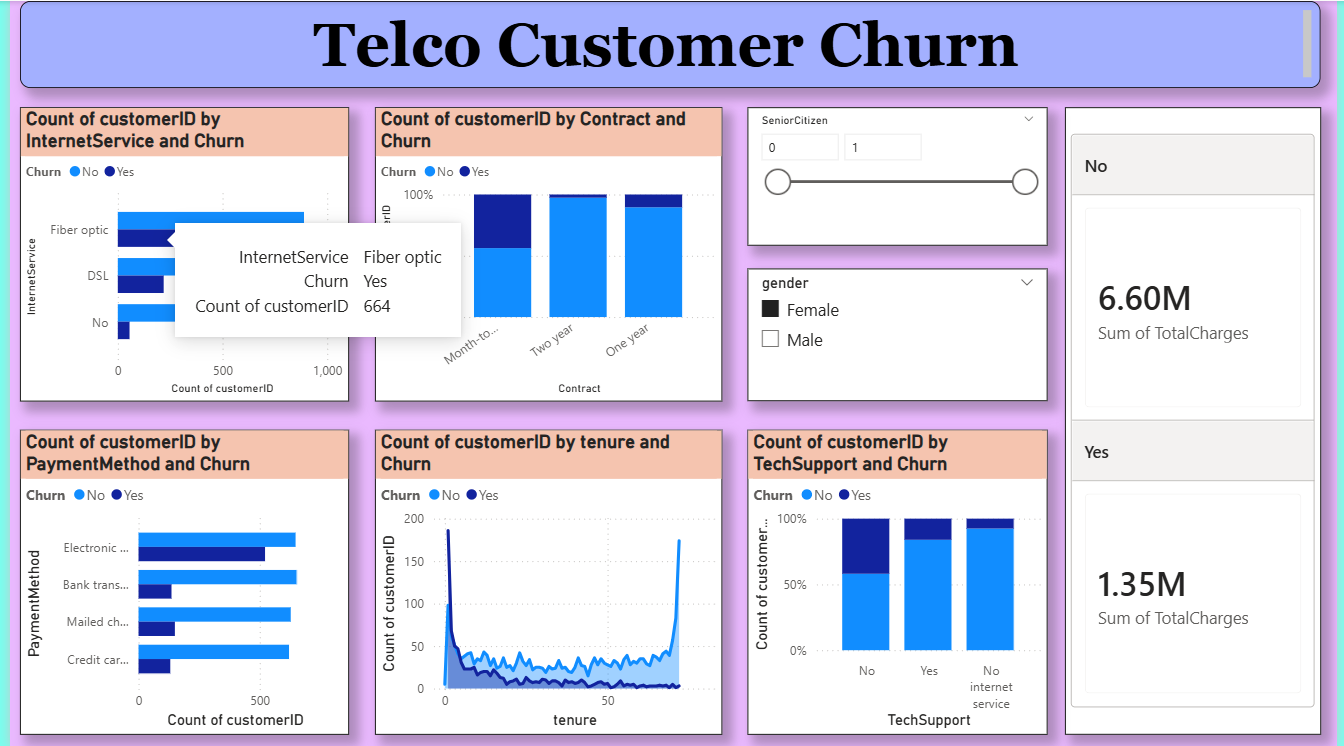

What the dashboard file says about the page in this screenshot:
{"tool":"powerbi","page":{"name":"Page 1","canvas":[1280,720],"ordinal":0},"visuals":[{"type":"textbox","box":[9.6,0,1255.6,83.7],"z":0},{"type":"clusteredBarChart","fields":{"Category":["telco_churn customers.InternetService"],"Y":["CountNonNull(telco_churn customers.customerID)"],"Series":["telco_churn customers.Churn"]},"box":[9.8,102.7,317.9,283.7],"z":1},{"type":"cardVisual","fields":{"Data":["Sum(telco_churn customers.TotalCharges)"],"Rows":["telco_churn customers.Churn"]},"box":[1018.6,102.7,247,605.3],"z":2},{"type":"hundredPercentStackedColumnChart","fields":{"Category":["telco_churn customers.Contract"],"Y":["CountNonNull(telco_churn customers.customerID)"],"Series":["telco_churn customers.Churn"]},"box":[352.2,102.7,335.1,283.7],"z":3},{"type":"clusteredBarChart","fields":{"Category":["telco_churn customers.PaymentMethod"],"Y":["CountNonNull(telco_churn customers.customerID)"],"Series":["telco_churn customers.Churn"]},"box":[9.8,413.3,317.9,294.7],"z":4},{"type":"areaChart","fields":{"Category":["telco_churn customers.tenure"],"Y":["CountNonNull(telco_churn customers.customerID)"],"Series":["telco_churn customers.Churn"]},"box":[352.2,413.3,335.1,294.7],"z":5},{"type":"hundredPercentStackedColumnChart","fields":{"Category":["telco_churn customers.TechSupport"],"Y":["CountNonNull(telco_churn customers.customerID)"],"Series":["telco_churn customers.Churn"]},"box":[711.7,413.3,289.8,294.7],"z":6},{"type":"slicer","fields":{"Values":["telco_churn customers.gender"]},"box":[711.7,258,289.8,128.4],"z":7},{"type":"slicer","fields":{"Values":["telco_churn customers.SeniorCitizen"]},"box":[711.7,102.7,289.8,133.3],"z":8}]}

Visuals, with their boxes in screenshot pixels (x1, y1, x2, y2), scaled from the page's 1280x720 canvas onto the 1344x746 screenshot:
textbox: <box>10,0,1328,87</box>
clusteredBarChart - telco_churn customers.InternetService x CountNonNull(telco_churn customers.customerID): <box>10,106,344,400</box>
cardVisual - Sum(telco_churn customers.TotalCharges) x telco_churn customers.Churn: <box>1070,106,1329,734</box>
hundredPercentStackedColumnChart - telco_churn customers.Contract x CountNonNull(telco_churn customers.customerID): <box>370,106,722,400</box>
clusteredBarChart - telco_churn customers.PaymentMethod x CountNonNull(telco_churn customers.customerID): <box>10,428,344,734</box>
areaChart - telco_churn customers.tenure x CountNonNull(telco_churn customers.customerID): <box>370,428,722,734</box>
hundredPercentStackedColumnChart - telco_churn customers.TechSupport x CountNonNull(telco_churn customers.customerID): <box>747,428,1052,734</box>
slicer - telco_churn customers.gender: <box>747,267,1052,400</box>
slicer - telco_churn customers.SeniorCitizen: <box>747,106,1052,245</box>
